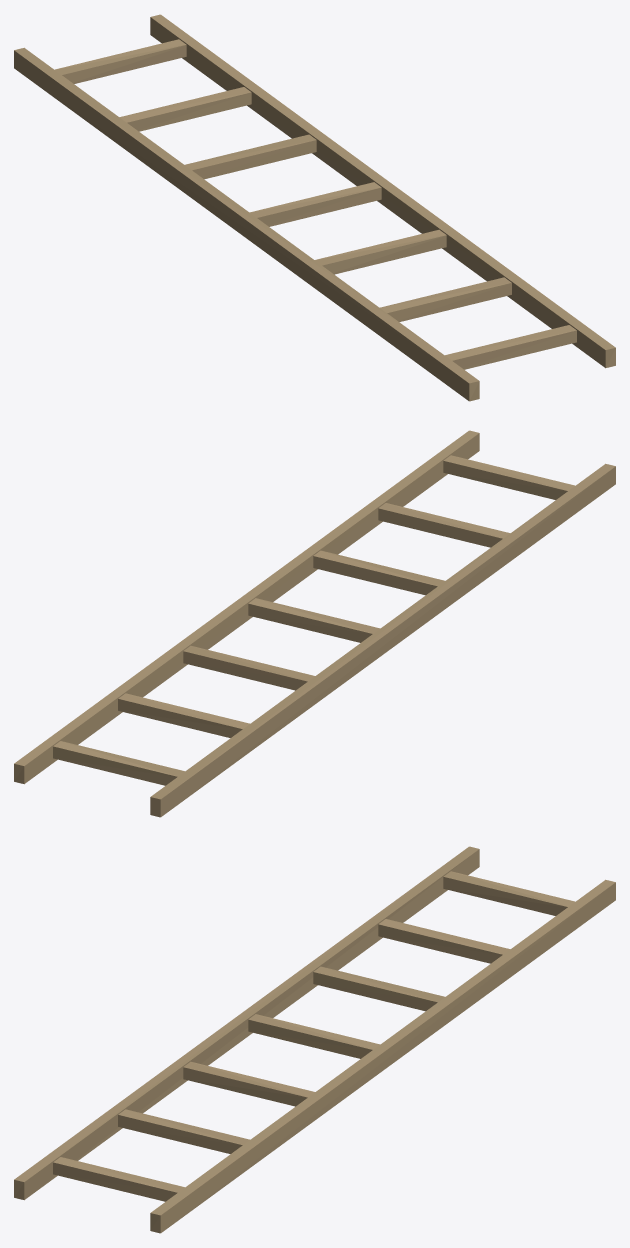
File: ladder-00.glb
3 renders of one model, top to bottom at view 1: azimuth 30°, elevation 25°; view 2: azimuth 150°, elevation 25°; view 3: azimuth 330°, elevation 25°, orthographic.
Parts seen in each view (by area): view 1: ladder_00; view 2: ladder_00; view 3: ladder_00.
Boxes of the visible parts, box(x1,y1,x2,y2) form: ladder_00: box(14, 14, 615, 401); ladder_00: box(14, 430, 615, 817); ladder_00: box(14, 846, 615, 1233).
Size of the model in its own units: 0.448 by 0.0526 by 2.41.
